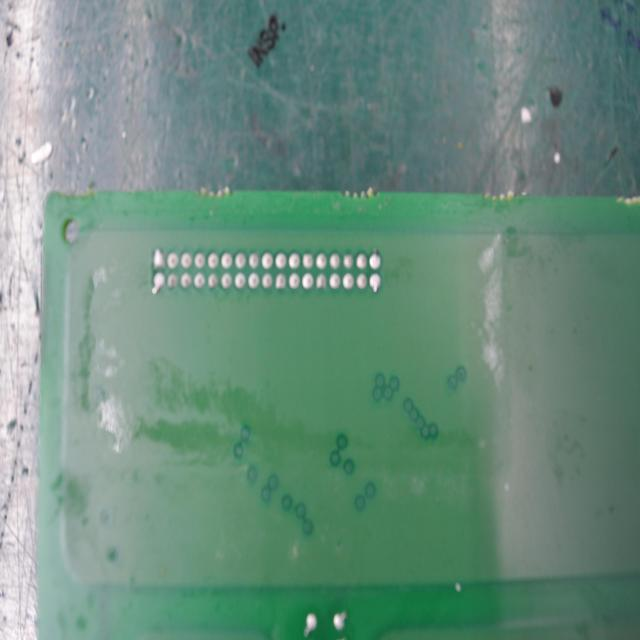slug: (151, 270, 165, 296), (153, 246, 165, 269)
